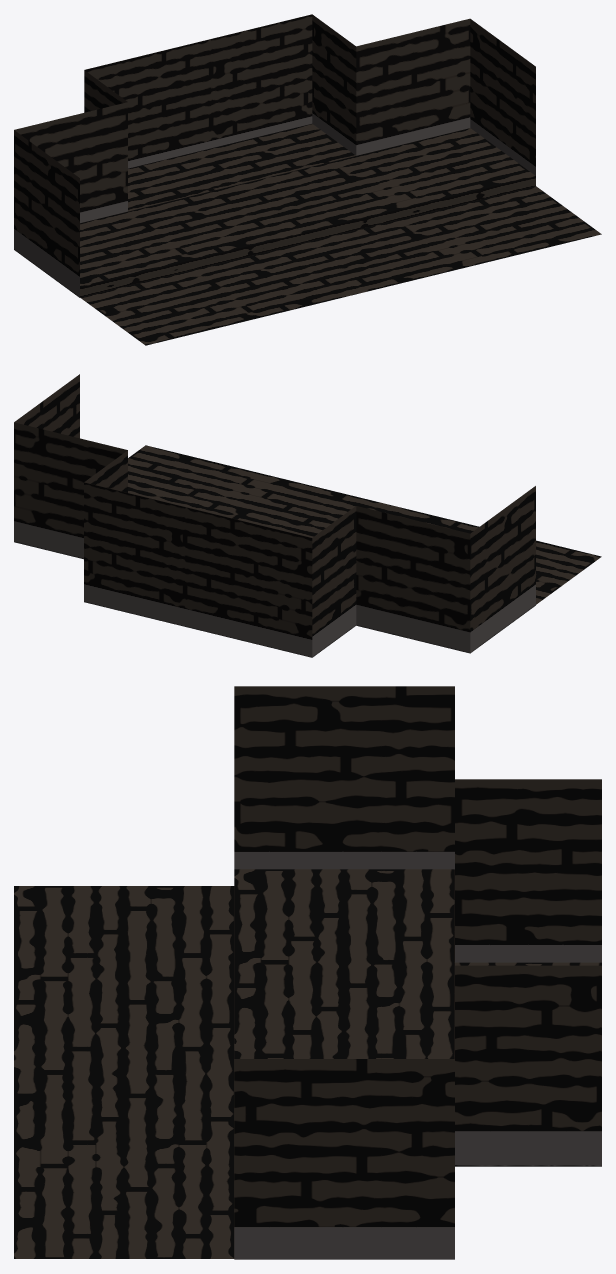
File: Miasma_MDL_AltarOfCthulhu_Walls.fbx
The picture shows the model from 3 angles, top to bottom: view 1: azimuth 30°, elevation 25°; view 2: azimuth 150°, elevation 25°; view 3: azimuth 270°, elevation 25°; orthographic projection. The views are drawn at different scales.
Parts seen in each view (by area): view 1: Floor_Base, Walls1; view 2: Walls1, Floor_Base; view 3: Walls1, Floor_Base.
Part boxes in pixels (bbox=[...]): Floor_Base: bbox=[80, 124, 601, 345]; Walls1: bbox=[14, 14, 535, 297]; Walls1: bbox=[14, 374, 535, 657]; Floor_Base: bbox=[128, 445, 601, 604]; Walls1: bbox=[234, 686, 601, 1259]; Floor_Base: bbox=[14, 869, 601, 1258].
Size of the model in its own units: 12 by 3.01 by 8.
